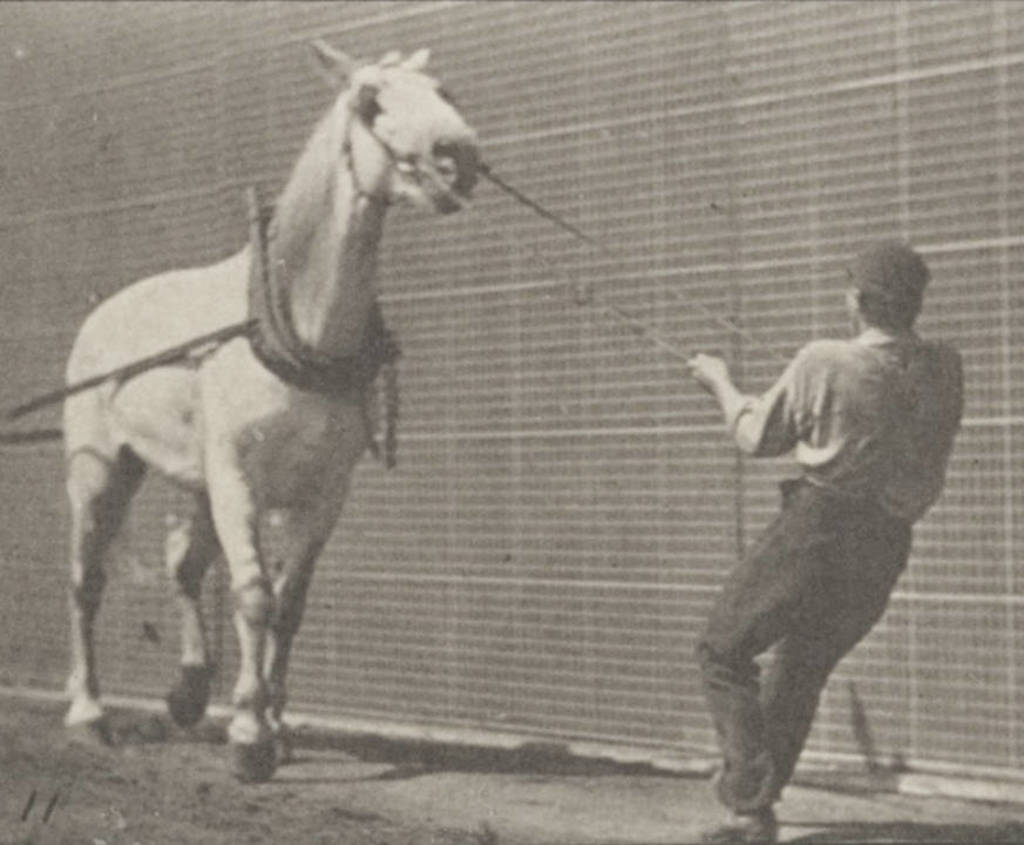horse: (66, 42, 483, 791)
